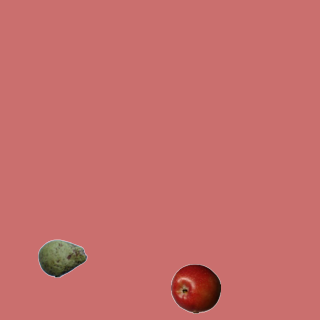Apple Braeburn: (170, 263, 220, 313)
Pear Stone: (37, 233, 87, 283)
